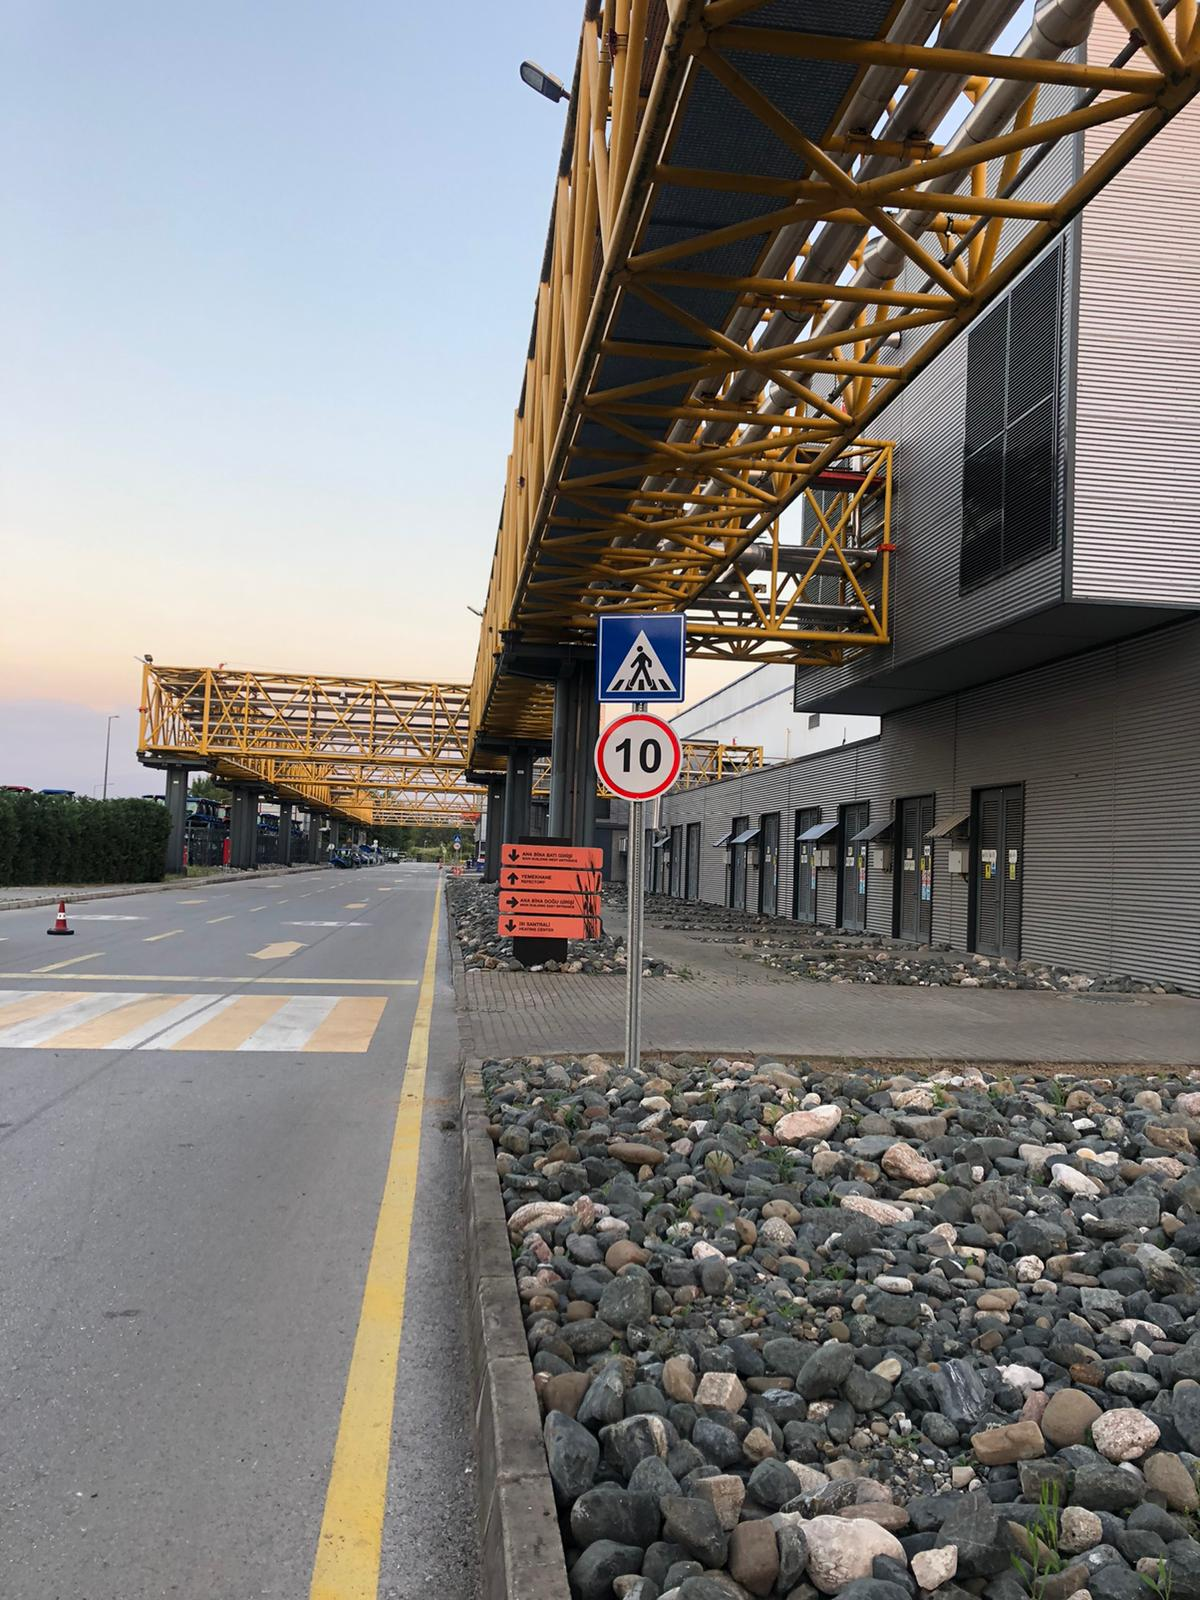Yaya Gecidi: (593, 622, 688, 703)
